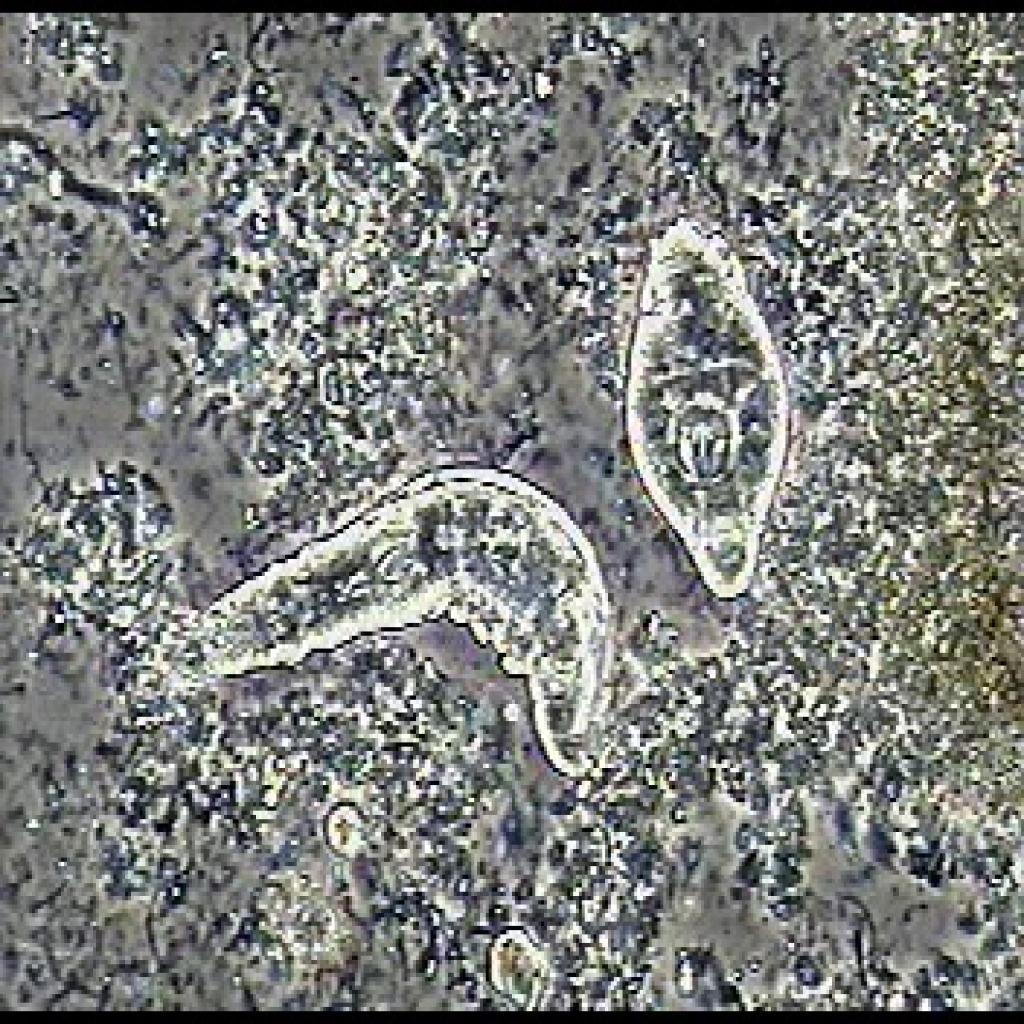Rotatoria: (112, 465, 618, 777), (608, 184, 797, 602)
